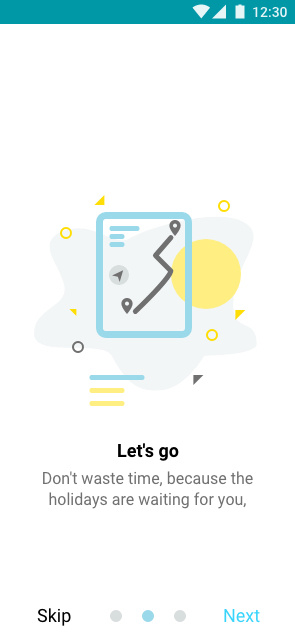Image: (34, 195, 258, 407)
PageIndicator: (109, 609, 187, 623)
Text: (43, 470, 254, 510), (118, 442, 180, 462), (38, 607, 72, 627), (223, 608, 262, 623)
UpperTaskBar: (1, 1, 296, 25)
